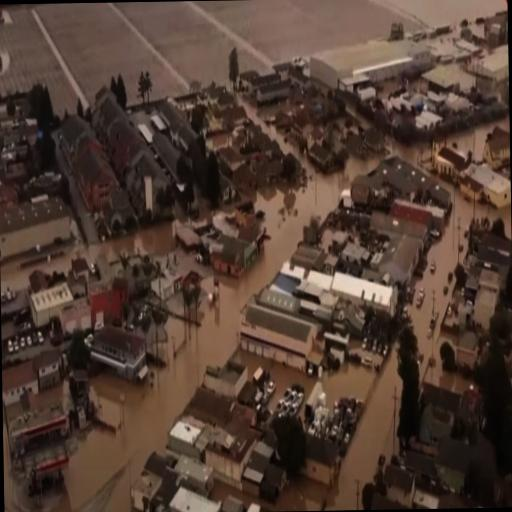flood: (3, 156, 377, 512), (0, 0, 506, 113), (199, 157, 377, 380), (410, 188, 474, 391), (324, 345, 402, 511), (39, 221, 175, 274), (96, 398, 177, 473), (432, 188, 473, 314), (245, 98, 307, 166), (451, 125, 492, 159), (477, 203, 512, 236), (388, 136, 423, 164), (0, 261, 35, 288), (3, 418, 14, 502), (176, 361, 196, 400)
house: (92, 86, 175, 225), (166, 382, 262, 494), (60, 114, 135, 236), (310, 41, 432, 103), (242, 298, 320, 380), (6, 401, 74, 488), (90, 320, 150, 389), (330, 266, 396, 328), (152, 117, 190, 196), (382, 232, 426, 290), (211, 228, 258, 282), (433, 435, 474, 494), (28, 280, 74, 332), (2, 358, 38, 410), (382, 459, 418, 510), (433, 144, 466, 185), (477, 233, 512, 269), (38, 348, 64, 392), (308, 138, 334, 178), (456, 330, 480, 370), (153, 270, 183, 300), (484, 134, 510, 168), (257, 76, 289, 103), (351, 173, 371, 206), (220, 144, 242, 168), (236, 164, 256, 190), (217, 90, 235, 110), (293, 114, 303, 140), (207, 87, 221, 105)
